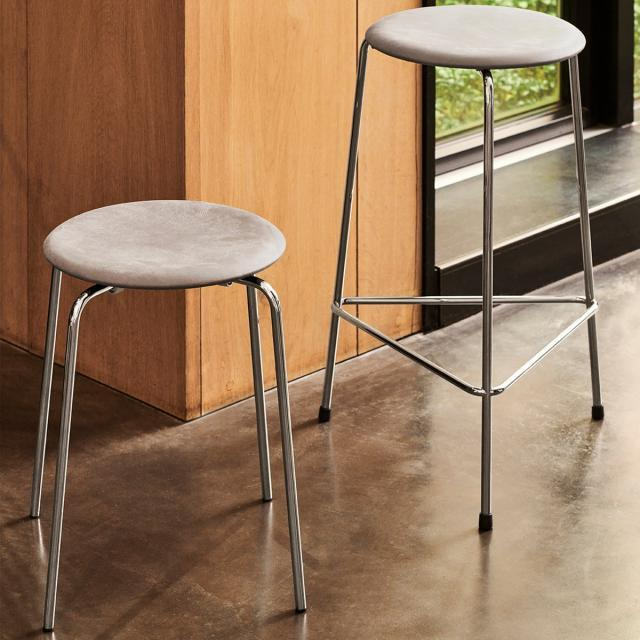chair: (318, 1, 608, 536), (29, 195, 314, 634)
